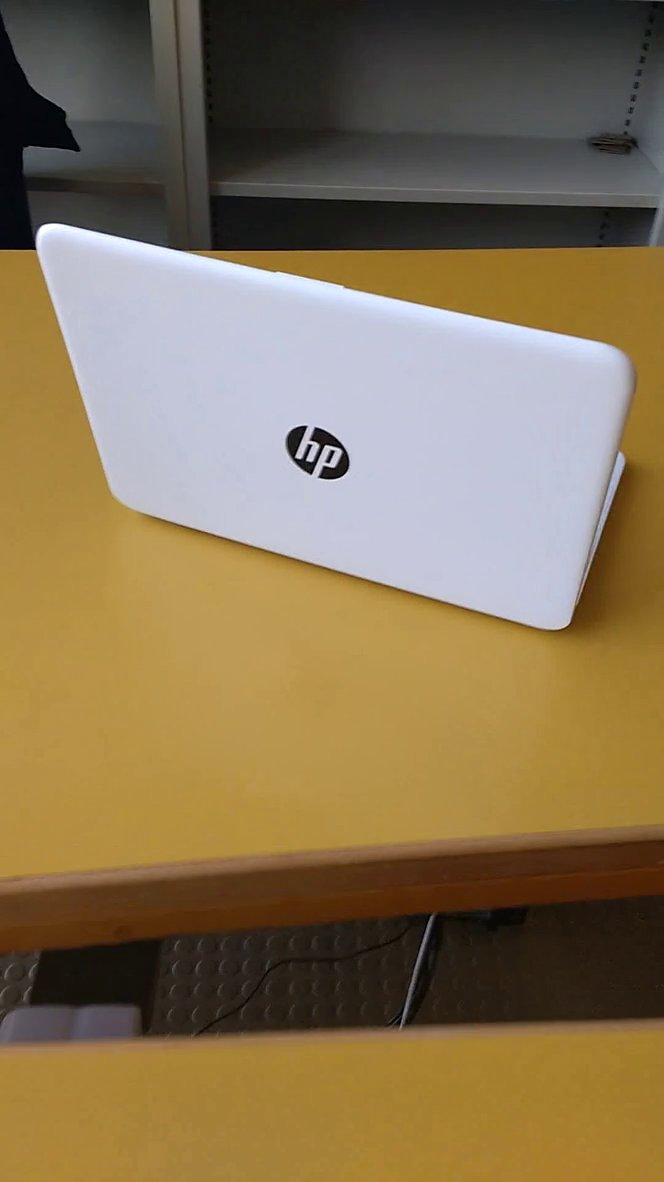laptop: (23, 208, 643, 650)
